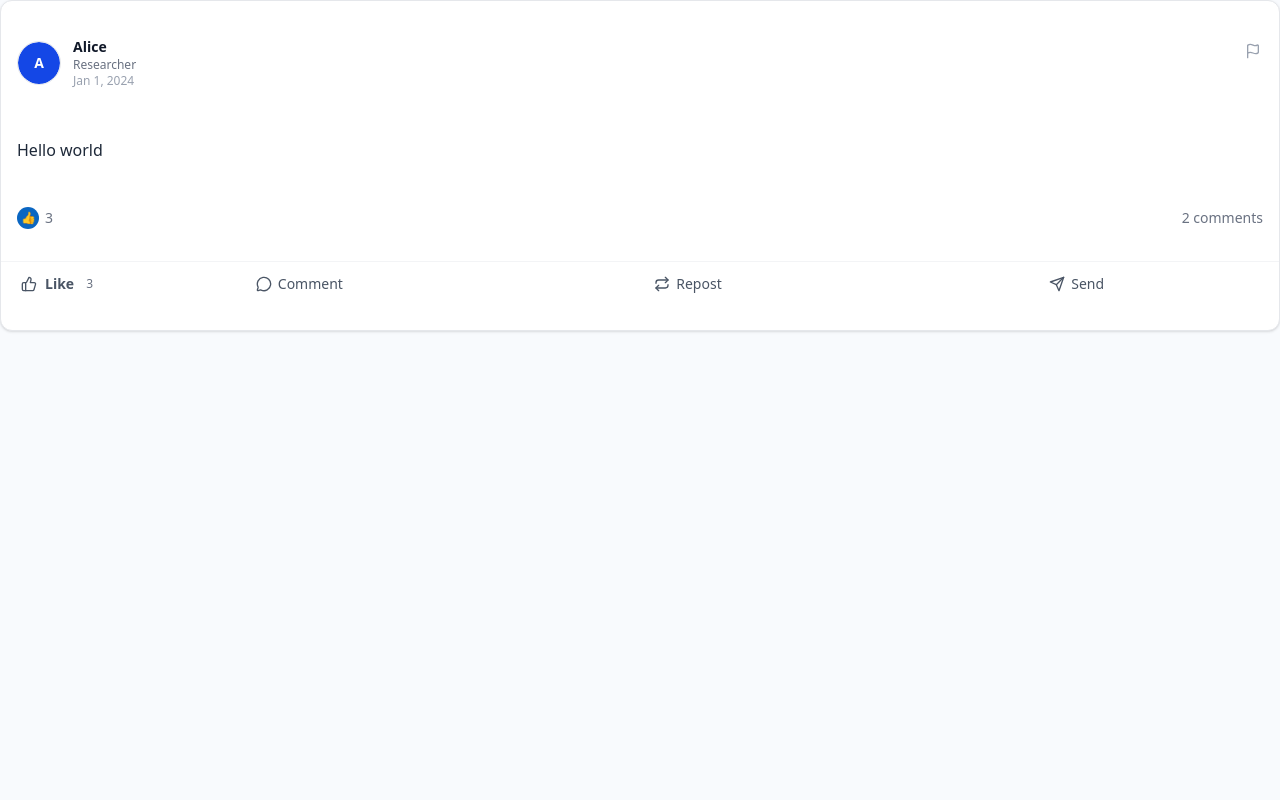
Test: PostItem › report post › cancels the report dialog
The image size is (1280, 800).
What coordinates should you click on to do the following:
click the button titled "Report post"
I would click on:
 (1253, 51)
Its box is [1239,37,1267,65].
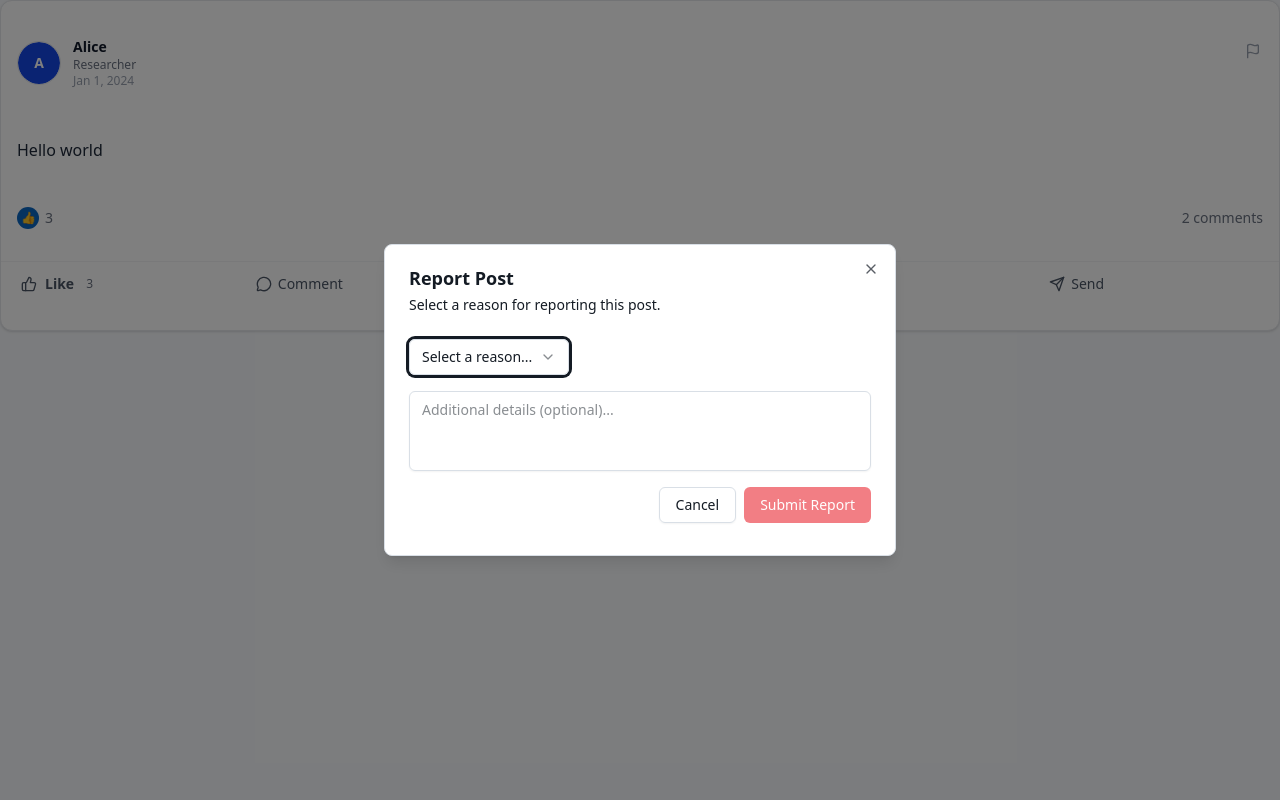
What coordinates should you click on to do the following:
click the button "Cancel"
I would click on:
 (697, 505)
Its box is [658,487,736,523].
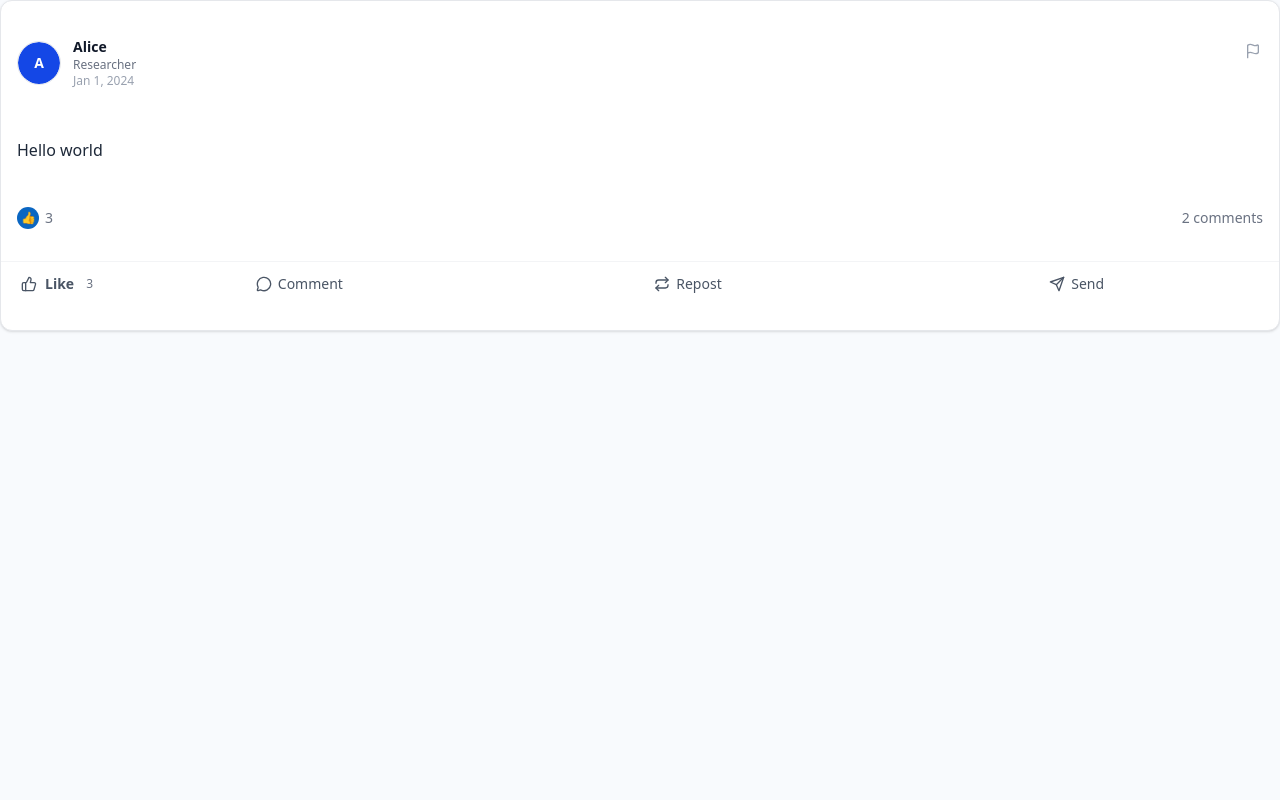
Expected: the heading "Report Post" is gone
